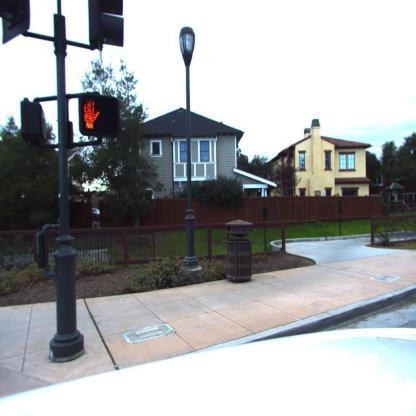traffic light: (79, 94, 121, 138), (20, 98, 48, 146), (0, 1, 30, 43)
